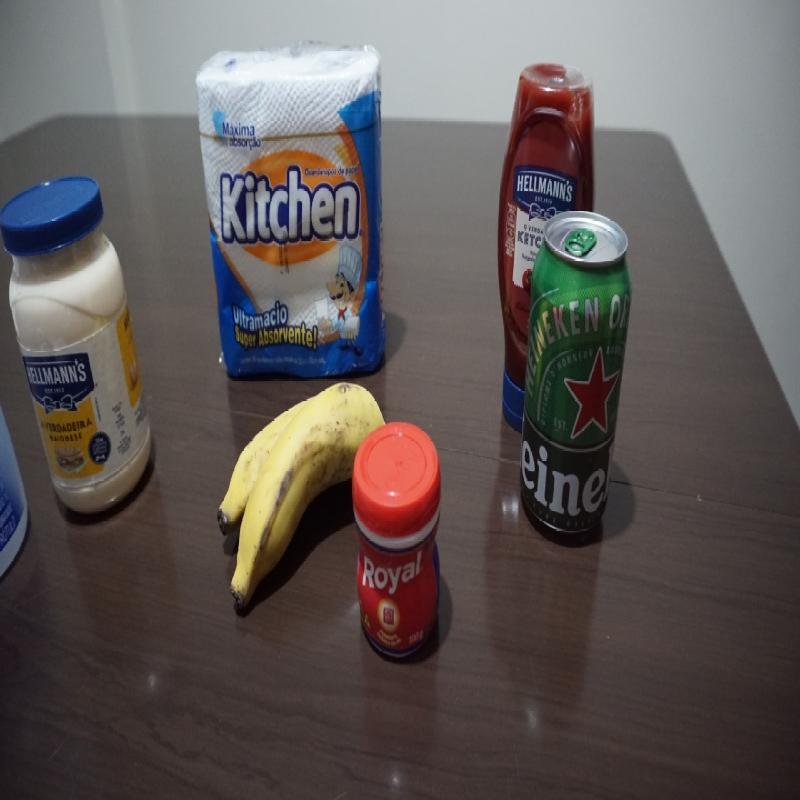Banana: (210, 375, 351, 613)
Beer can: (528, 209, 633, 536)
Ketchup: (498, 55, 595, 194)
Mayonnaise: (6, 175, 155, 515)
Napkin: (195, 37, 386, 375)
Yeast: (355, 424, 445, 656)
